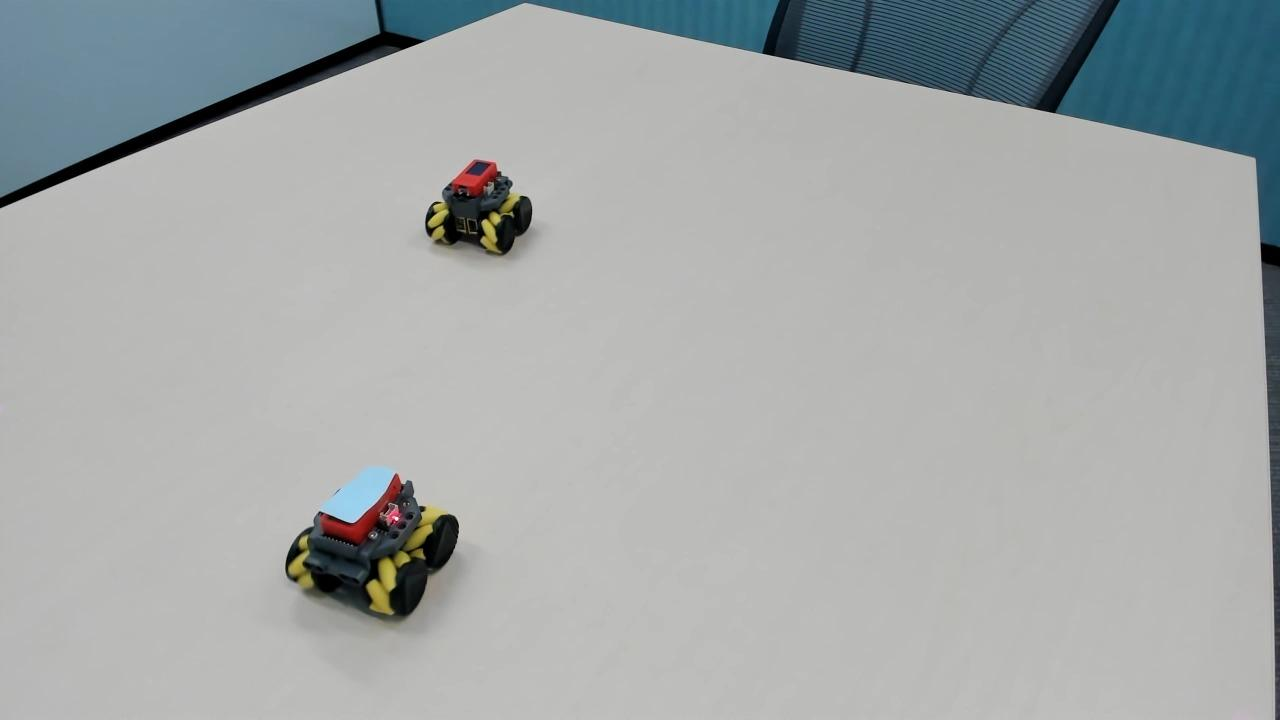B-Robot: (252, 444, 472, 639)
R-Robot: (411, 145, 549, 275)
